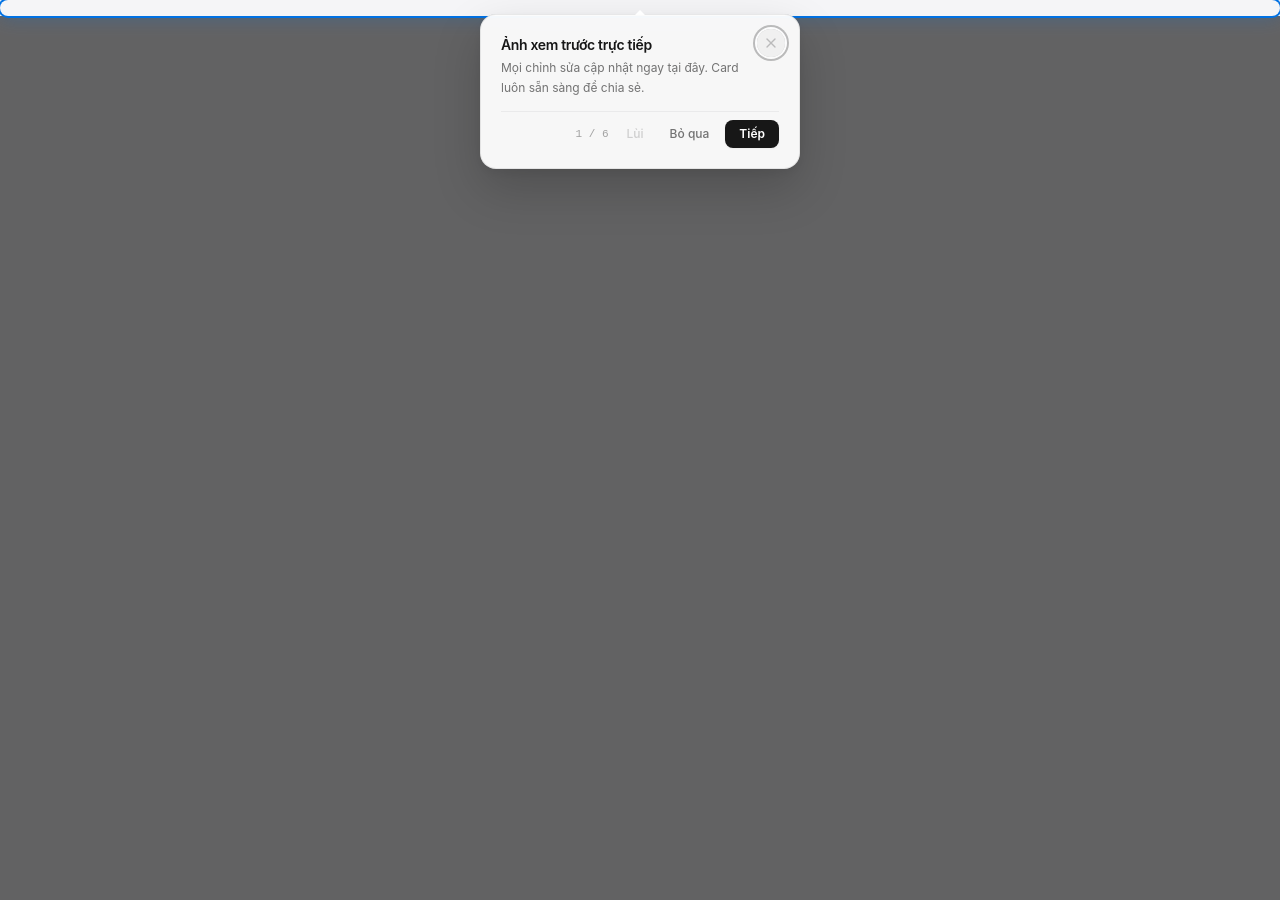
Test: OnboardingTour › prev walks back one step
The width and height of the screenshot is (1280, 900).
Expected: the text "Ảnh xem trước trực tiếp" is shown, [501,36,652,53]
Click the button "Tiếp" at (752, 134), box [725,120,779,148]
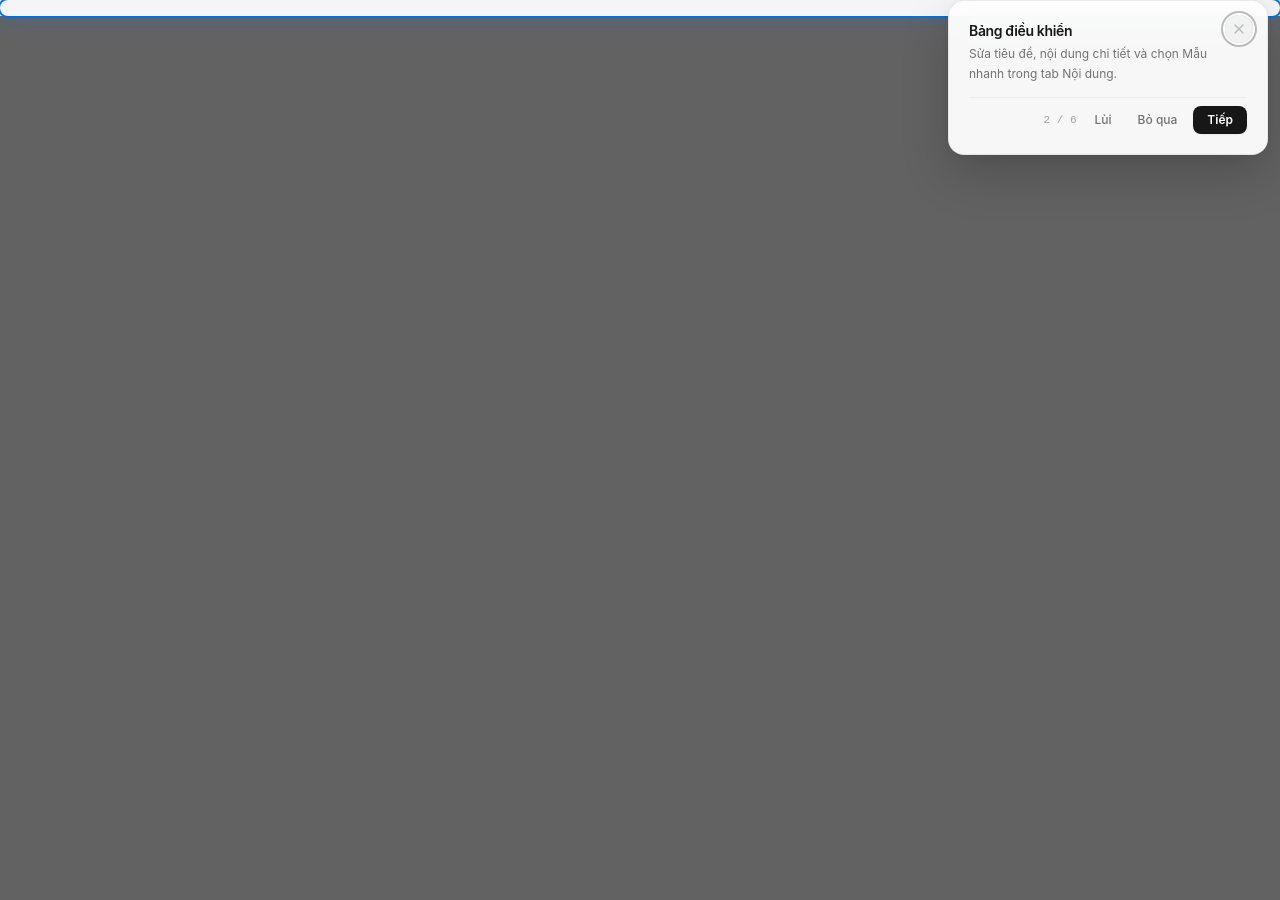
Expected: the text "Bảng điều khiển" is shown, [969,22,1072,39]
Click the button "Lùi" at (1103, 120), box [1084,106,1122,134]
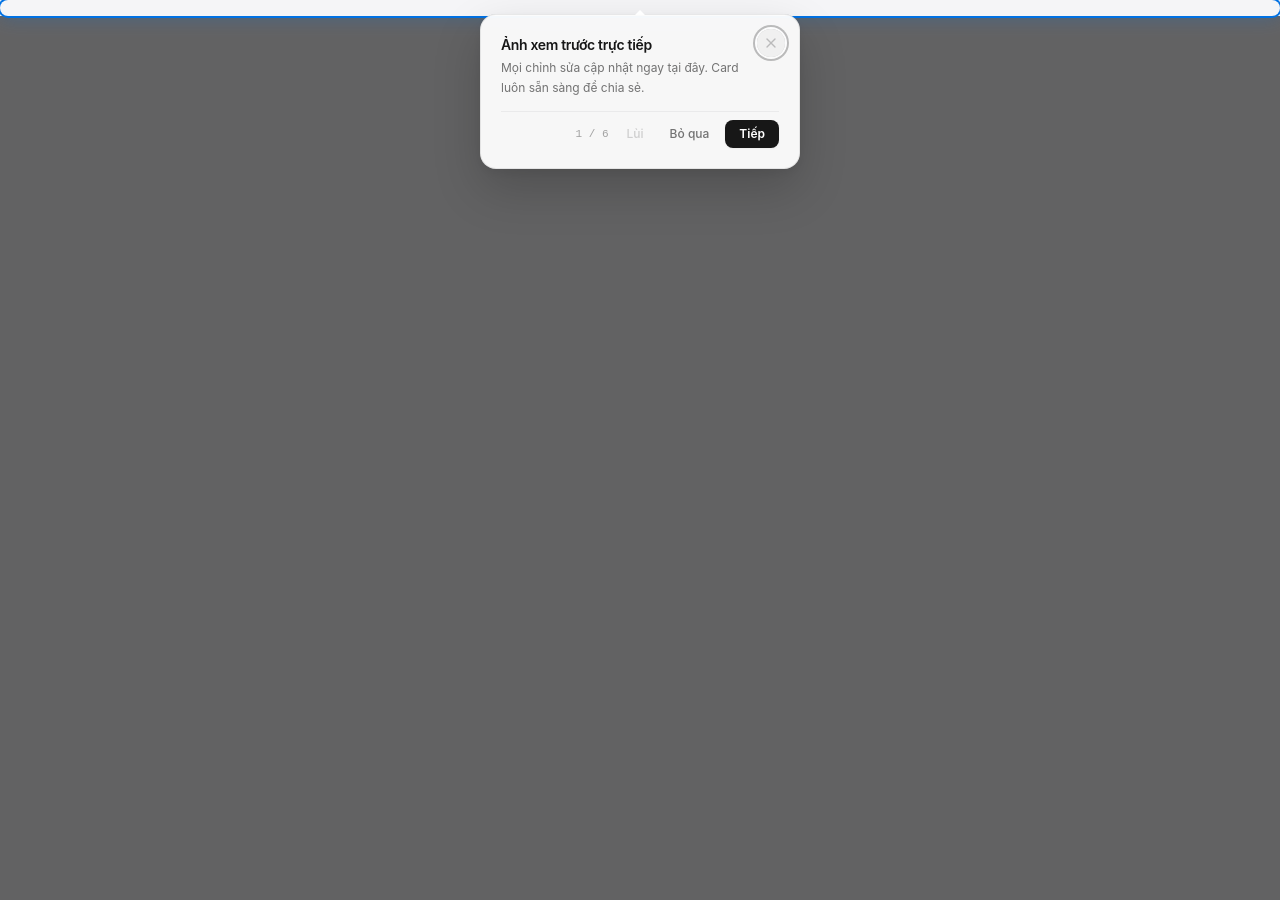
Expected: the text "Ảnh xem trước trực tiếp" is shown, [501,36,652,53]
